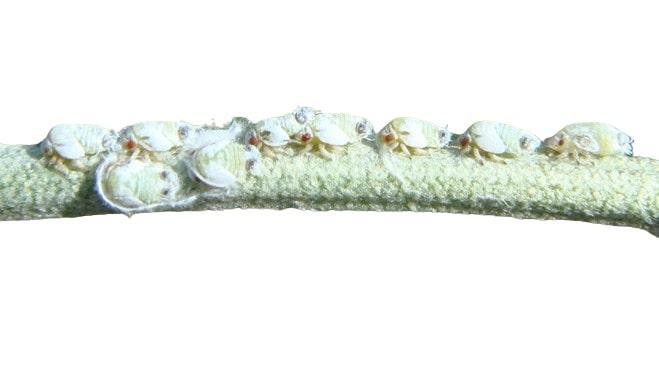Psyllid: (0, 110, 654, 222)
